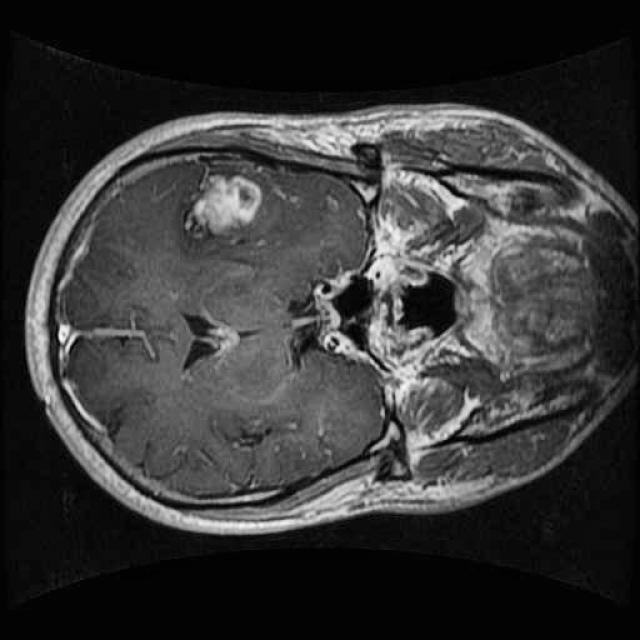Non-Tumor: (172, 148, 281, 249)
